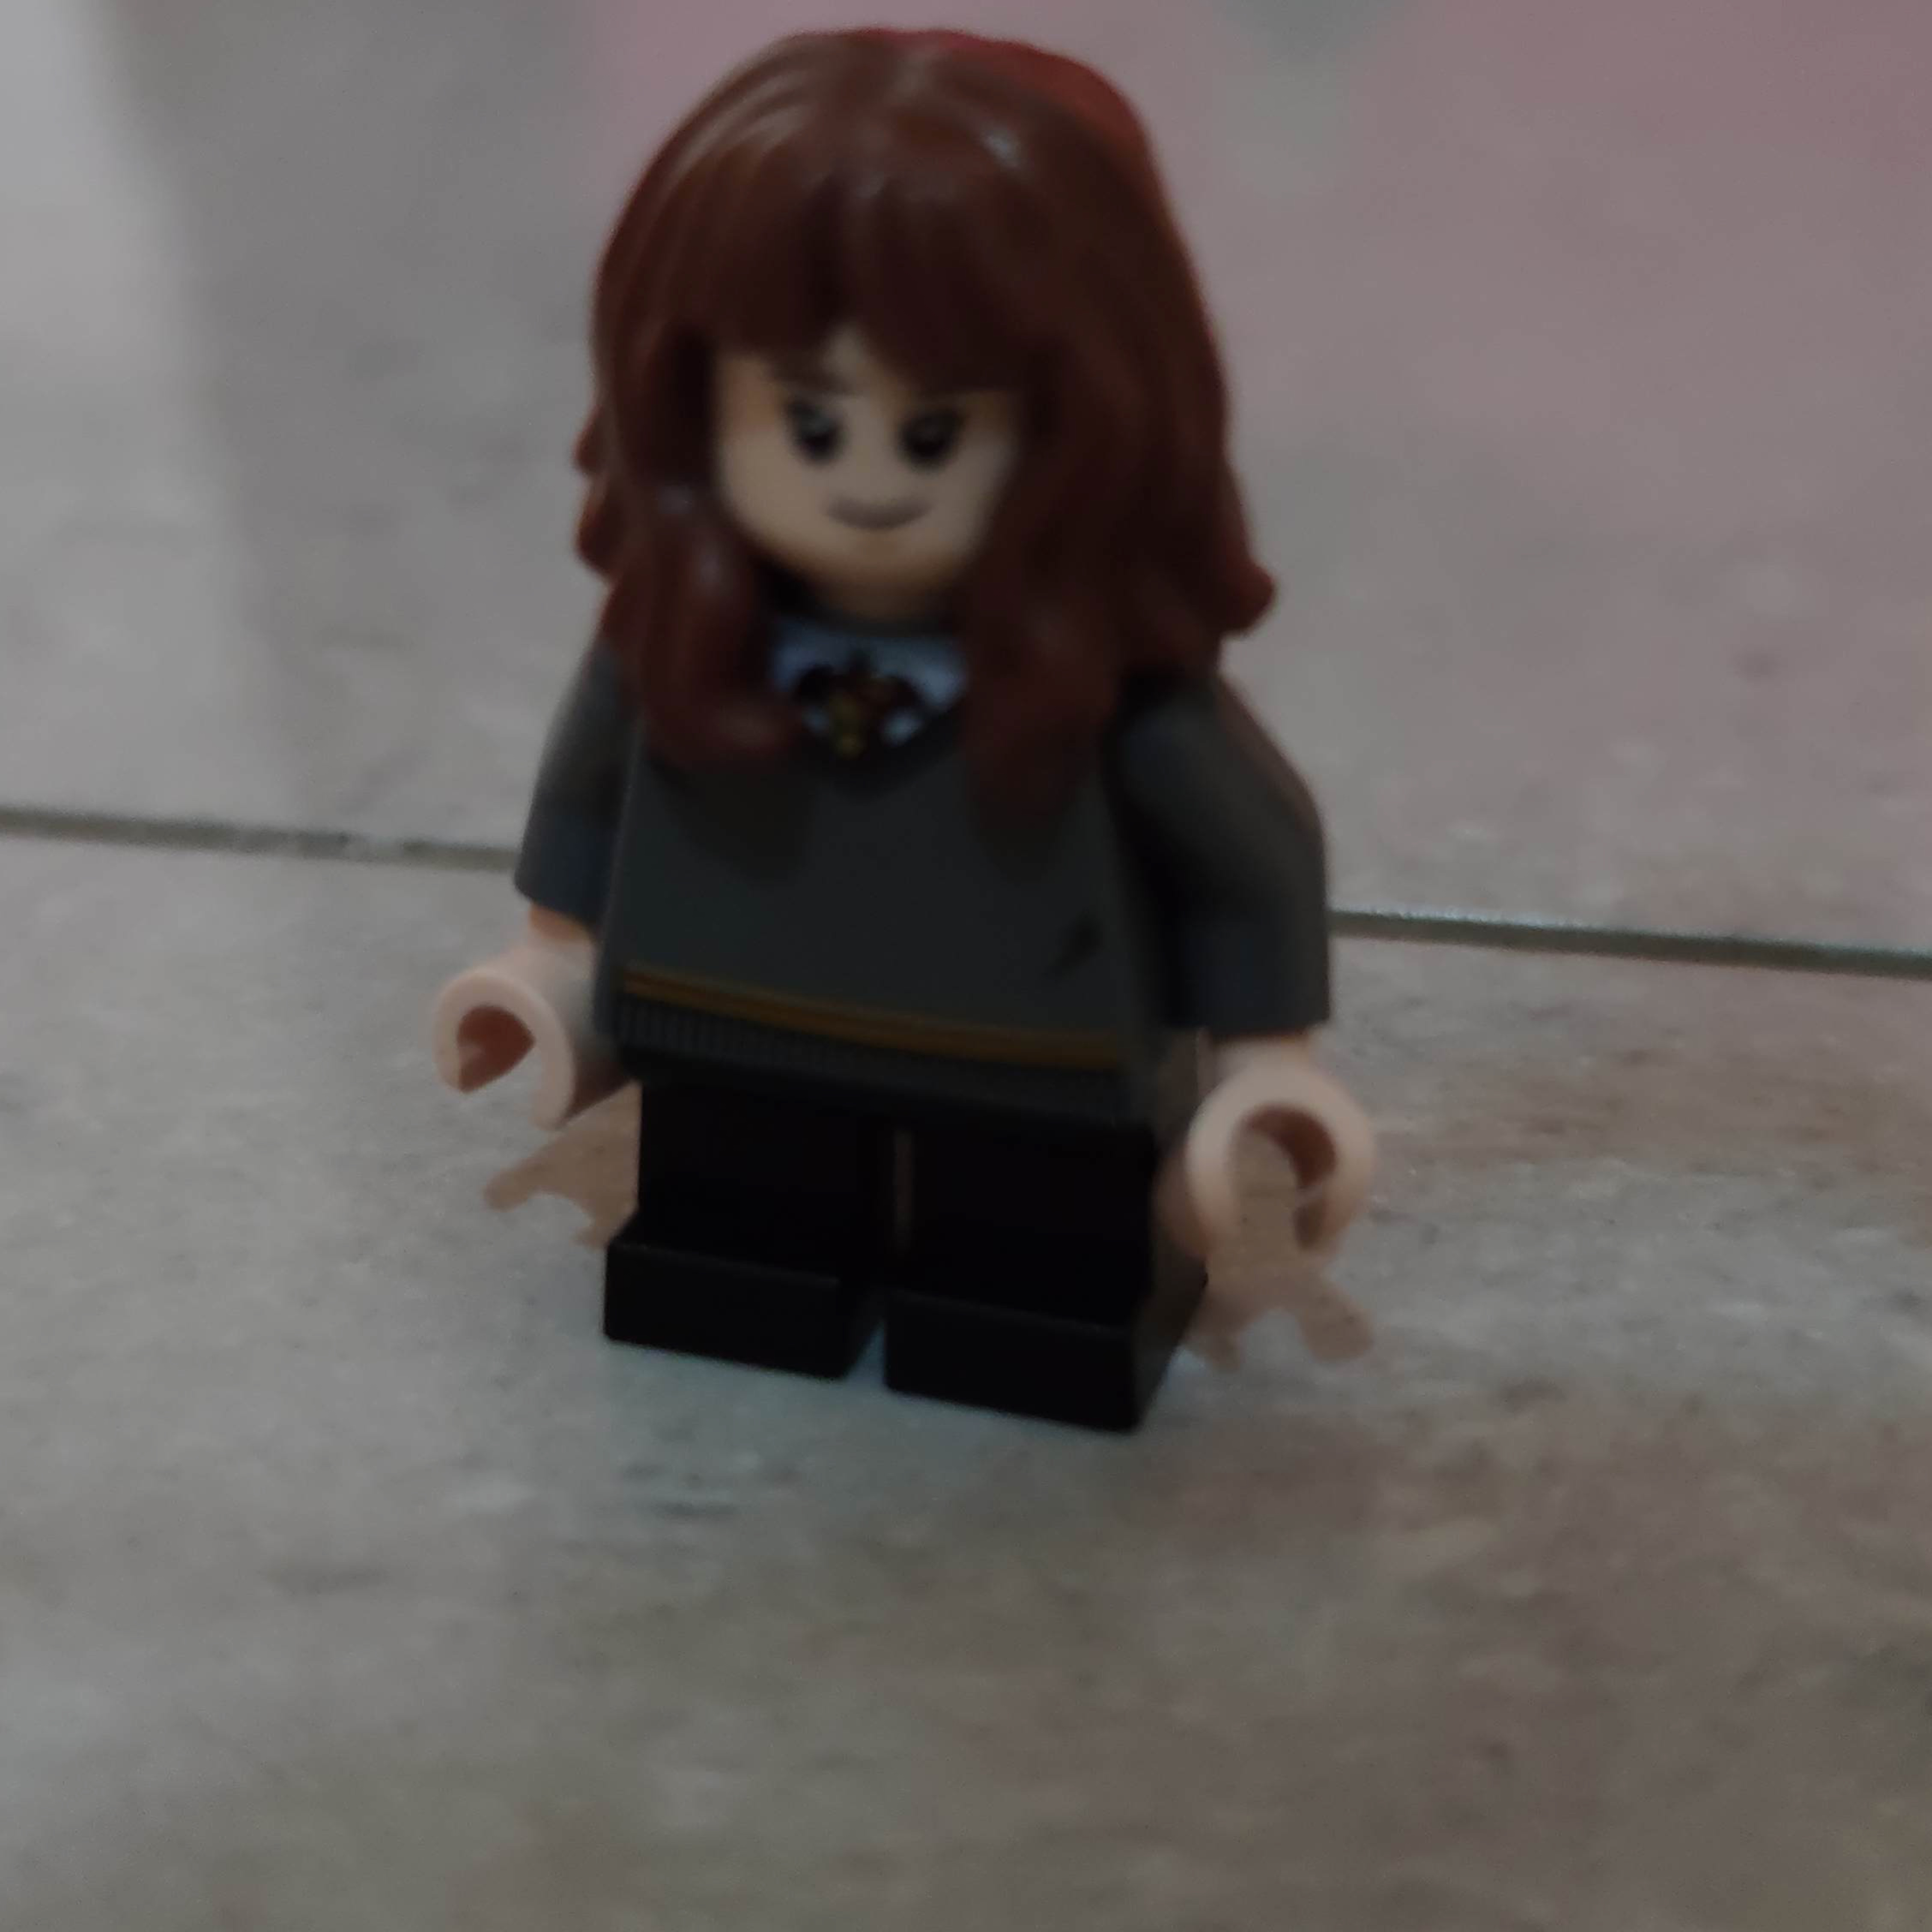lego: (435, 25, 1375, 1440)
